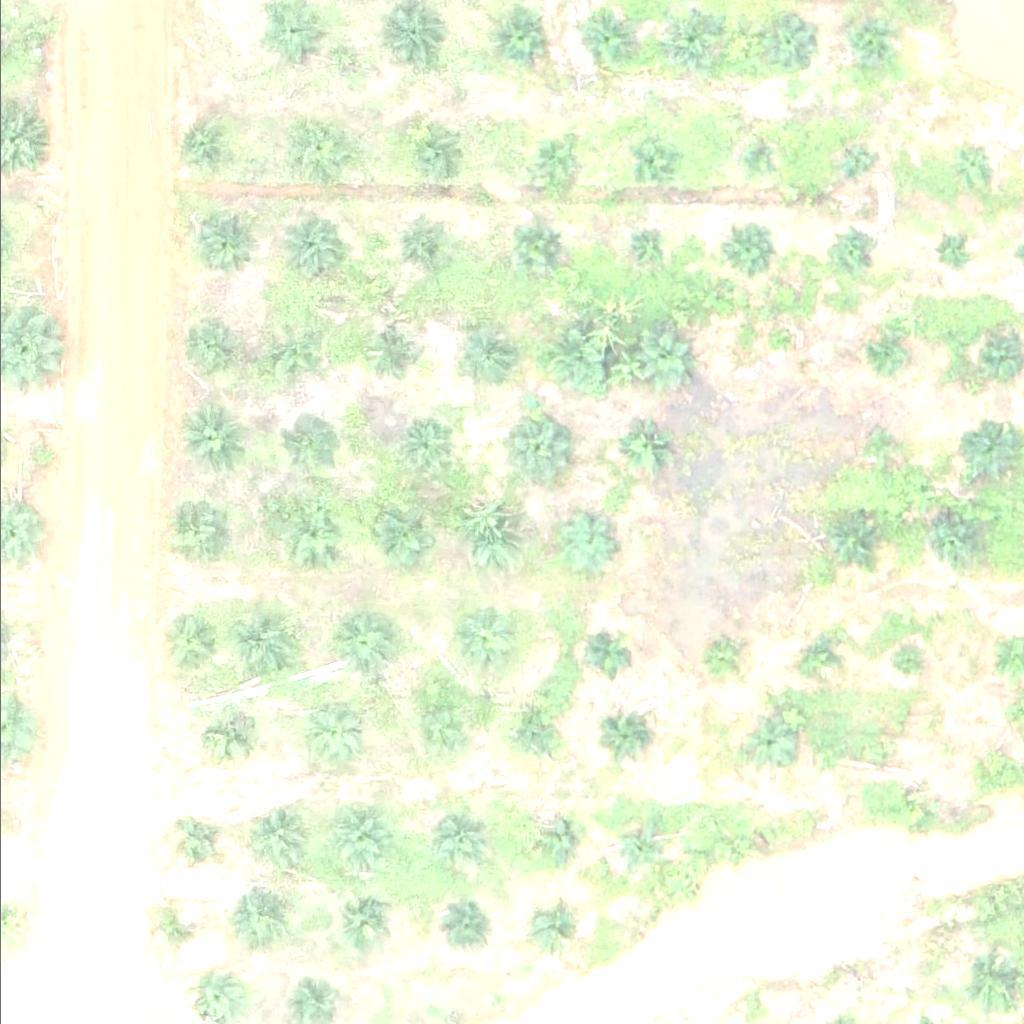Kelapa_Sawit: (381, 3, 444, 66), (398, 690, 461, 753), (422, 805, 485, 868), (958, 415, 1021, 478), (605, 413, 668, 476), (505, 417, 568, 480), (178, 404, 241, 467), (325, 803, 388, 866), (195, 213, 258, 276), (288, 124, 351, 187), (177, 114, 240, 177), (280, 500, 343, 563), (173, 498, 236, 561), (273, 414, 336, 477), (156, 610, 219, 673), (229, 890, 292, 953), (244, 804, 307, 867), (629, 327, 692, 390), (399, 120, 461, 183), (366, 501, 429, 563), (451, 612, 514, 674), (553, 511, 616, 573), (234, 614, 297, 676), (260, 326, 323, 388), (330, 611, 393, 673), (292, 700, 355, 762), (194, 705, 257, 767), (334, 890, 397, 952), (540, 329, 603, 391), (453, 507, 516, 569), (179, 321, 241, 383), (274, 217, 336, 279), (927, 519, 978, 569), (824, 518, 875, 568), (171, 817, 222, 867), (150, 903, 201, 953), (722, 224, 773, 274), (792, 629, 843, 679), (495, 12, 545, 62), (663, 16, 713, 66), (581, 18, 631, 68), (766, 15, 816, 65), (266, 5, 316, 55), (385, 224, 435, 274), (453, 326, 503, 376), (360, 334, 410, 384), (397, 417, 447, 467), (513, 220, 563, 270), (436, 906, 486, 956), (605, 713, 655, 763), (580, 631, 630, 681), (533, 138, 583, 188), (610, 820, 660, 870), (741, 719, 791, 769), (525, 816, 575, 866), (526, 902, 576, 952), (501, 710, 551, 760), (621, 224, 671, 274), (625, 137, 675, 187), (843, 18, 893, 68), (957, 957, 1007, 1007), (715, 828, 753, 866), (704, 640, 742, 678), (738, 135, 776, 173), (863, 732, 901, 770), (976, 742, 1014, 780), (931, 234, 969, 272), (867, 334, 905, 372), (901, 796, 939, 833), (954, 147, 992, 184), (861, 430, 899, 467), (835, 231, 873, 268), (837, 139, 875, 176), (883, 642, 920, 679)
